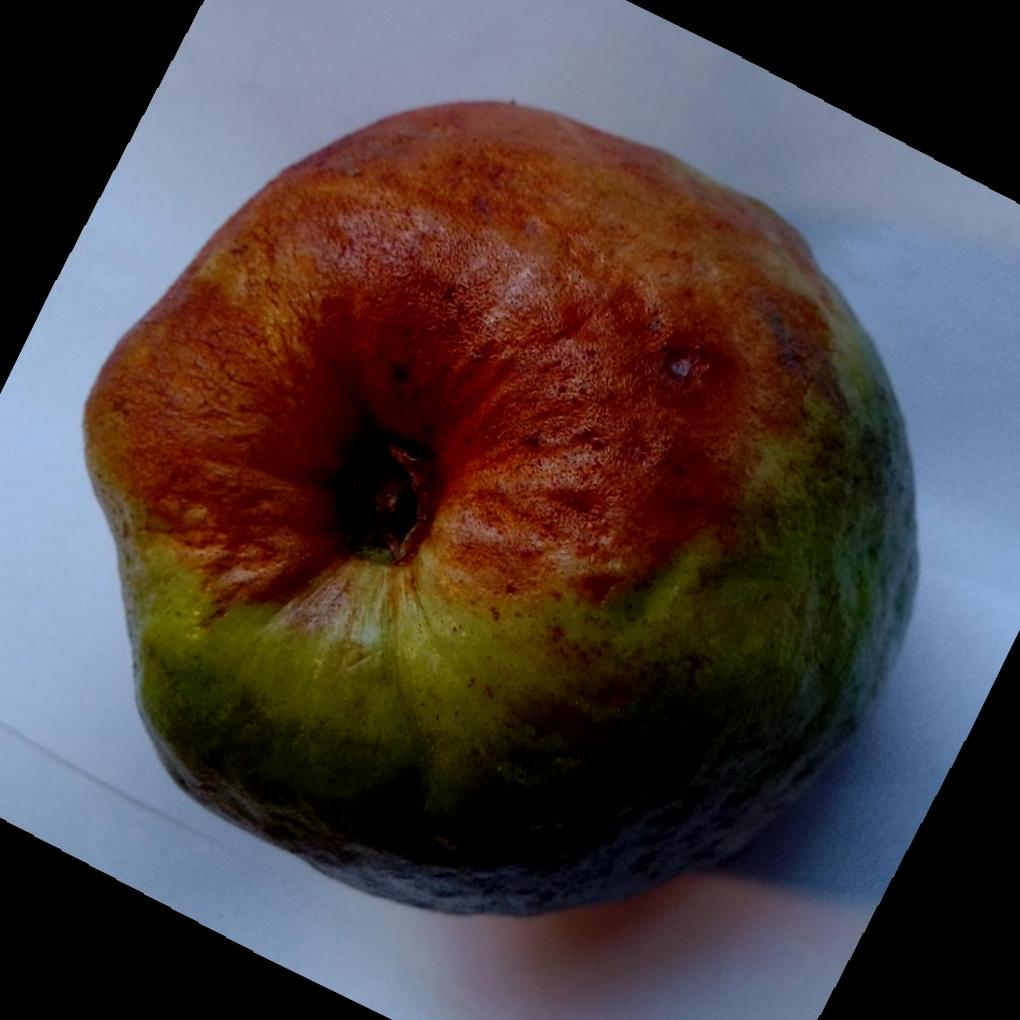FreshOrange: (83, 99, 925, 917)
